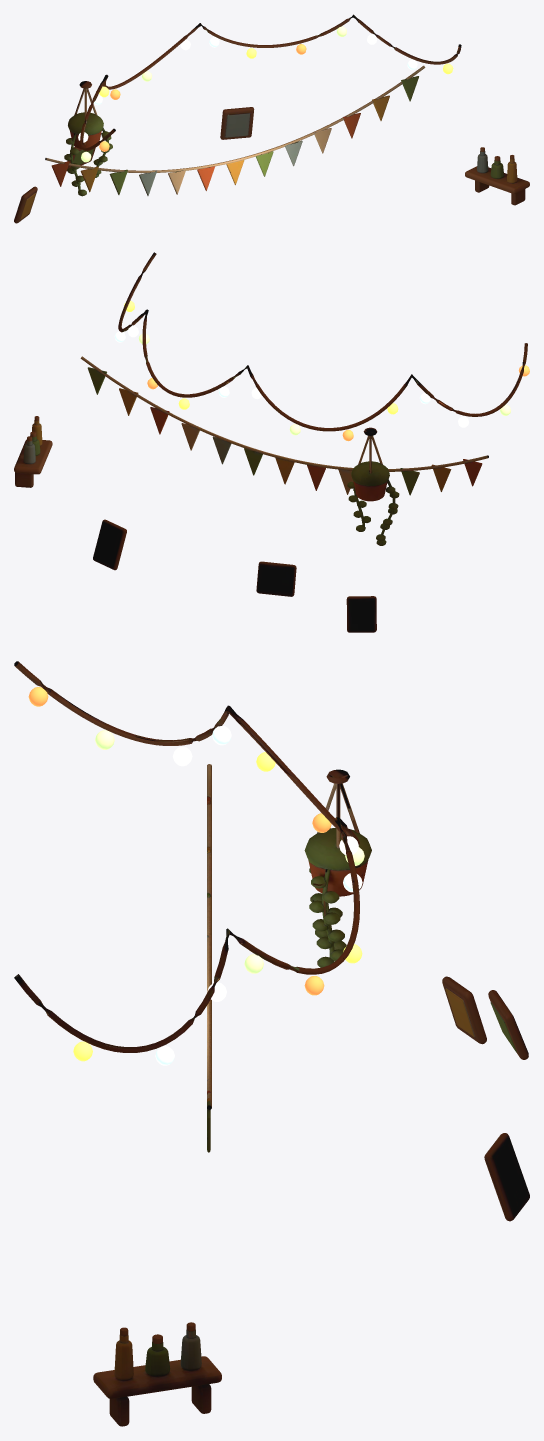
File: room_deco_v1_draco_webp.glb
The picture shows the model from 3 angles, top to bottom: view 1: azimuth 30°, elevation 25°; view 2: azimuth 150°, elevation 25°; view 3: azimuth 270°, elevation 25°; orthographic projection. The views are drawn at different scales.
Parts seen in each view (by area): view 1: bunting, string_lights_wire, bunting_string, shelf, shelf_board, hanging_plant_foliage, frame_01_picture, frame_01_border, hanging_plant, hanging_plant_vine_01_leaves, frame_03_border, string_lights_bulbs_orange (+4 smaller); view 2: bunting, string_lights_wire, bunting_string, frame_02_border, frame_01_border, frame_03_border, hanging_plant_foliage, shelf, shelf_board, hanging_plant, hanging_plant_pot; view 3: string_lights_wire, shelf, shelf_board, frame_01_border, bunting_string, hanging_plant_foliage, hanging_plant_vine_02_leaves, frame_03_border, hanging_plant, string_lights_bulbs_orange.
Part boxes in pixels (left/top/right/bottom): bunting: left=51, top=76, right=418, bottom=195; string_lights_wire: left=80, top=14, right=461, bottom=150; bunting_string: left=45, top=65, right=425, bottom=173; shelf: left=475, top=154, right=525, bottom=205; shelf_board: left=465, top=166, right=529, bottom=193; hanging_plant_foliage: left=68, top=112, right=103, bottom=135; frame_01_picture: left=225, top=113, right=250, bottom=137; frame_01_border: left=220, top=107, right=254, bottom=139; hanging_plant: left=70, top=88, right=108, bottom=190; hanging_plant_vine_01_leaves: left=64, top=138, right=86, bottom=196; frame_03_border: left=14, top=186, right=37, bottom=223; string_lights_bulbs_orange: left=99, top=44, right=306, bottom=151; bunting: left=87, top=367, right=482, bottom=495; string_lights_wire: left=118, top=252, right=527, bottom=431; bunting_string: left=80, top=356, right=488, bottom=471; frame_02_border: left=256, top=561, right=296, bottom=596; frame_01_border: left=93, top=519, right=126, bottom=570; frame_03_border: left=346, top=596, right=376, bottom=632; hanging_plant_foliage: left=351, top=461, right=389, bottom=486; shelf: left=15, top=423, right=42, bottom=487; shelf_board: left=14, top=439, right=52, bottom=474; hanging_plant: left=353, top=435, right=395, bottom=544; hanging_plant_pot: left=353, top=481, right=387, bottom=501; string_lights_wire: left=14, top=661, right=359, bottom=1052; shelf: left=109, top=1335, right=211, bottom=1426; shelf_board: left=93, top=1356, right=221, bottom=1398; frame_01_border: left=484, top=1133, right=529, bottom=1221; bunting_string: left=207, top=764, right=211, bottom=1109; hanging_plant_foliage: left=304, top=828, right=371, bottom=870; hanging_plant_vine_02_leaves: left=309, top=876, right=344, bottom=961; frame_03_border: left=442, top=976, right=486, bottom=1044; hanging_plant: left=317, top=783, right=359, bottom=961; string_lights_bulbs_orange: left=28, top=687, right=331, bottom=995.
Size of the model in its own units: 4.93 by 2.06 by 2.6.
Materials: 6 (1 with a texture image).
